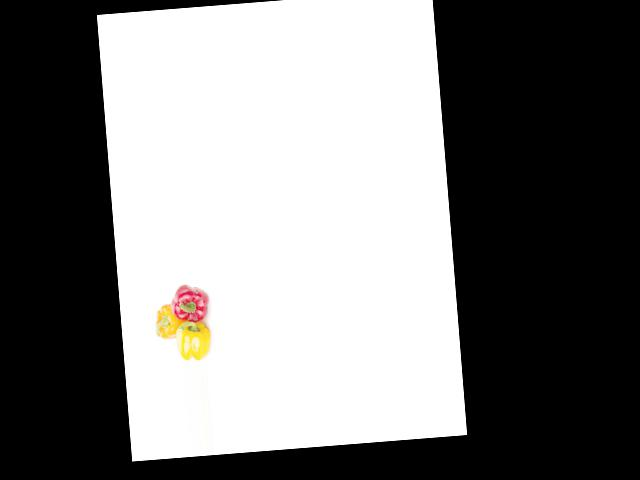bell_pepper: (174, 321, 215, 362)
